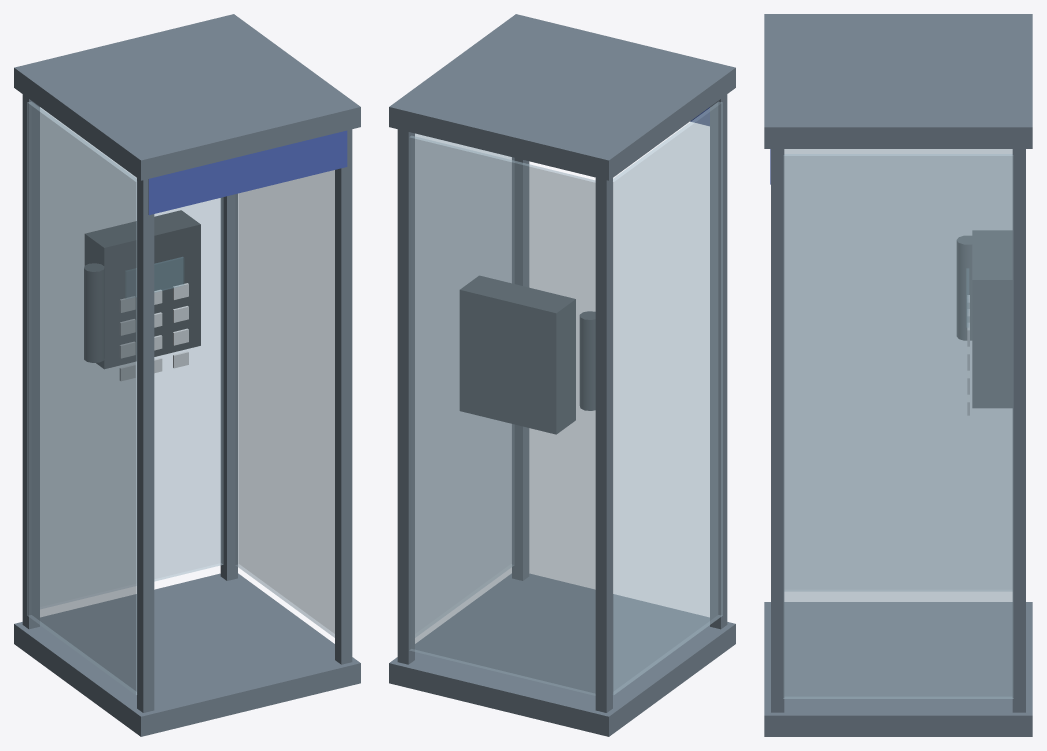
File: phone_booth01.glb
The picture shows the model from 3 angles, left to right: view 1: azimuth 30°, elevation 25°; view 2: azimuth 150°, elevation 25°; view 3: azimuth 270°, elevation 25°; orthographic projection. The views are drawn at different scales.
Visible parts, largest first — view 1: side_glass_glass_3, back_glass_glass_4, frame_steel_painted_0, roof_steel_painted_1, base_steel_painted_2, telephone_plastic_dark_5, overhead_sign_blue_print_9, keypad_steel_brushed_7, handset_plastic_dark_8, telephone_screen_glass_tinted_6; view 2: back_glass_glass_4, side_glass_glass_3, roof_steel_painted_1, frame_steel_painted_0, base_steel_painted_2, telephone_plastic_dark_5, handset_plastic_dark_8; view 3: side_glass_glass_3, roof_steel_painted_1, base_steel_painted_2, frame_steel_painted_0, telephone_plastic_dark_5, handset_plastic_dark_8.
Part boxes in pixels (x1,y1,x2,y2): side_glass_glass_3: (27, 102, 334, 694); back_glass_glass_4: (40, 107, 223, 608); frame_steel_painted_0: (22, 94, 352, 712); roof_steel_painted_1: (14, 14, 360, 180); base_steel_painted_2: (14, 573, 360, 736); telephone_plastic_dark_5: (84, 210, 200, 369); overhead_sign_blue_print_9: (148, 130, 347, 215); keypad_steel_brushed_7: (119, 283, 188, 381); handset_plastic_dark_8: (84, 263, 104, 362); telephone_screen_glass_tinted_6: (125, 257, 183, 298); back_glass_glass_4: (409, 135, 595, 695); side_glass_glass_3: (415, 102, 722, 694); roof_steel_painted_1: (389, 14, 735, 180); frame_steel_painted_0: (397, 94, 727, 712); base_steel_painted_2: (389, 573, 735, 736); telephone_plastic_dark_5: (459, 275, 575, 434); handset_plastic_dark_8: (579, 311, 595, 410); side_glass_glass_3: (783, 149, 1013, 698); roof_steel_painted_1: (764, 14, 1032, 148); base_steel_painted_2: (764, 602, 1032, 736); frame_steel_painted_0: (771, 149, 1025, 712); telephone_plastic_dark_5: (972, 230, 1012, 408); handset_plastic_dark_8: (956, 235, 972, 340).
Size of the model in its own units: 0.91 by 2.28 by 0.91.
